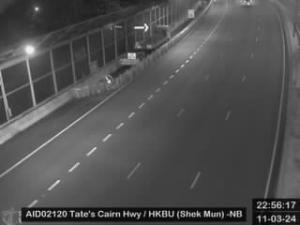vehicle: (240, 1, 255, 8)
